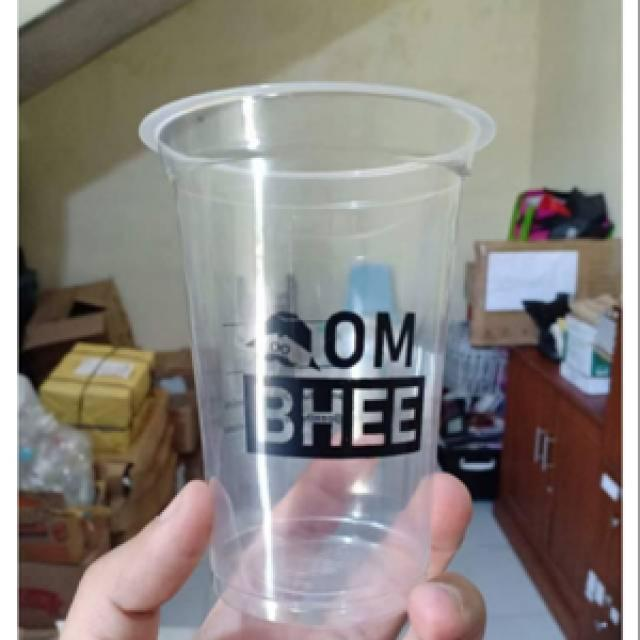plastic cup: (128, 70, 506, 630)
